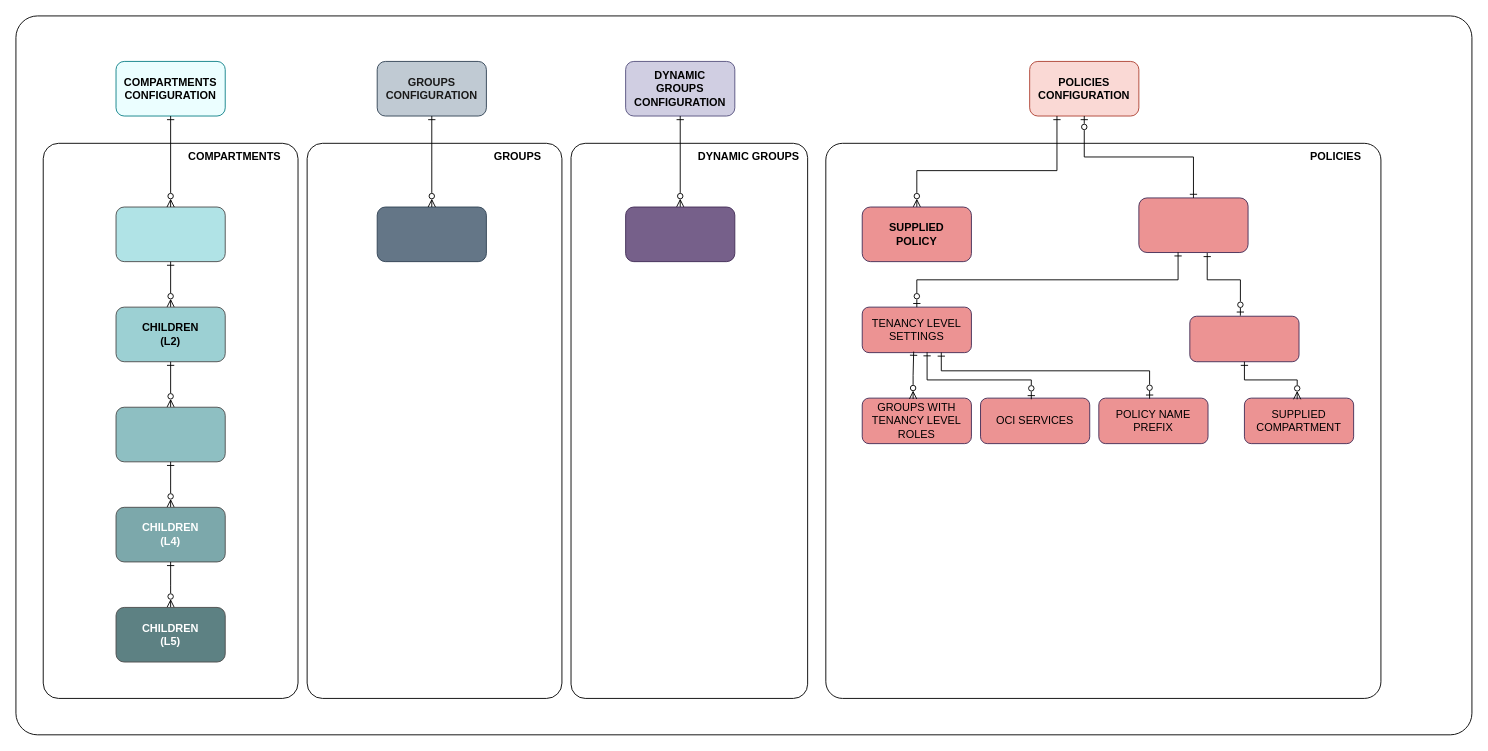
This 1488x751 diagram has some shape labels left out. The shapes that lost their labels are listed below. From the top down, each one's centre as x and y in pixels, then its label:
pixel 170 234: COMPARTMENT (L1)
pixel 431 234: GROUP
pixel 680 234: DYNAMIC GROUP
pixel 1193 225: TEMPLATE POLICIES
pixel 1244 338: COMPARTMENT LEVEL SETTINGS
pixel 170 434: CHILDREN (L3)
